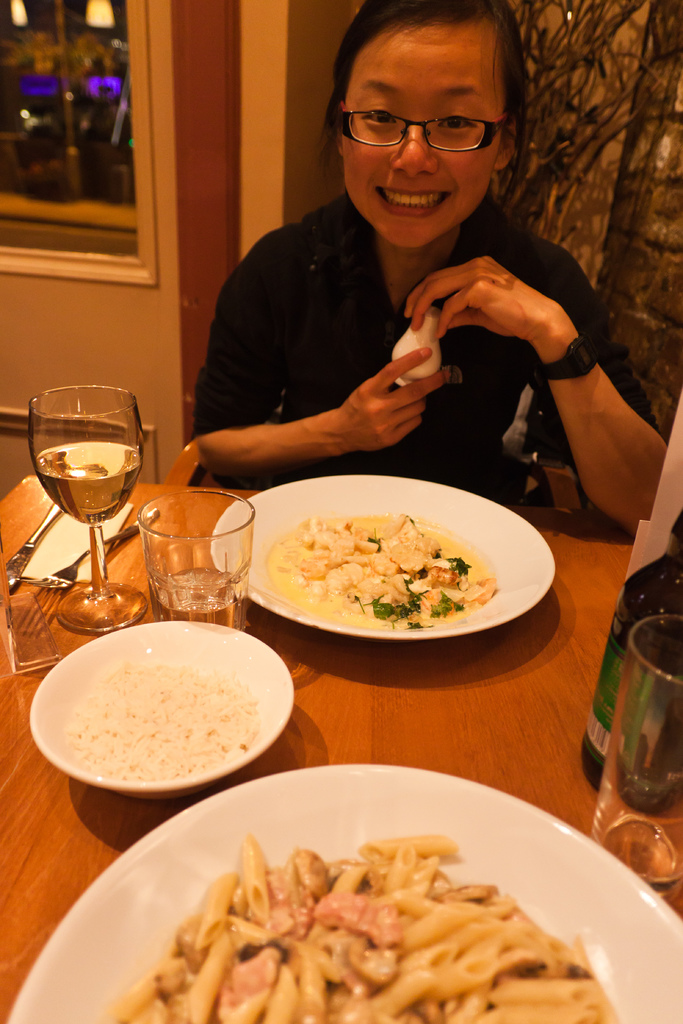pasta: (108, 833, 598, 1023)
